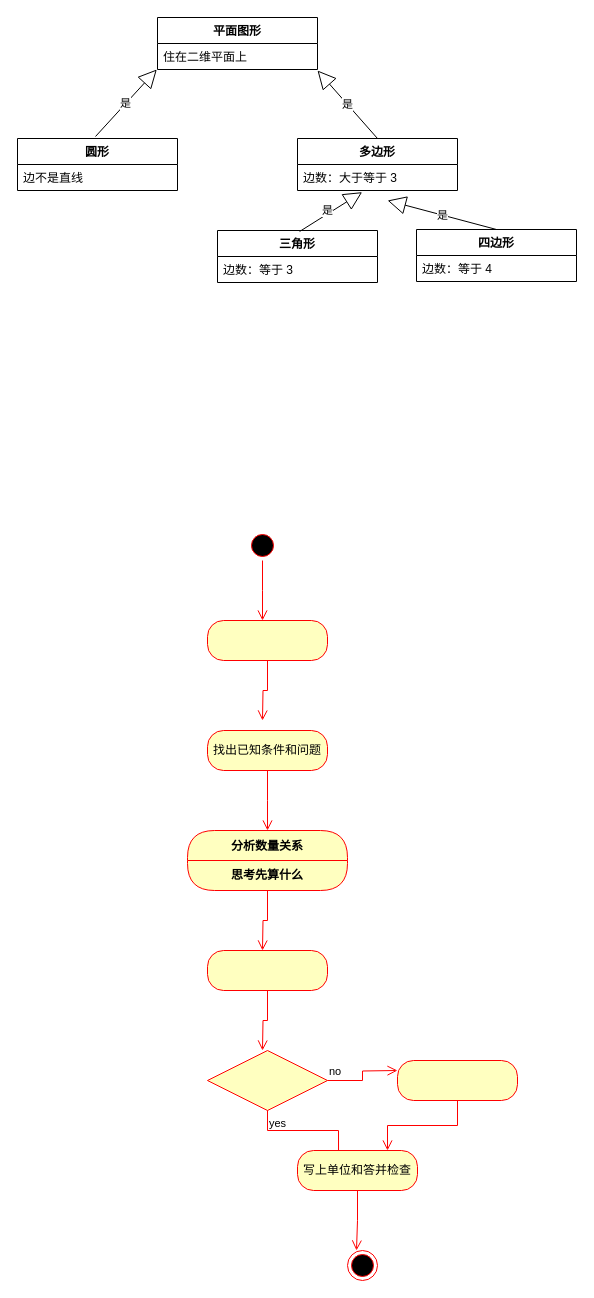
This 594x1298 diagram has some shape labels left out. The centre of each missing label's shape, as x and y in pixels:
"列出第一步算式并计算" goes at point (267, 970).
"根据第一步结果 列出第二步算式" goes at point (457, 1080).
"认真读题，理解题意" goes at point (267, 640).
"问题解决了吗？" goes at point (267, 1080).
